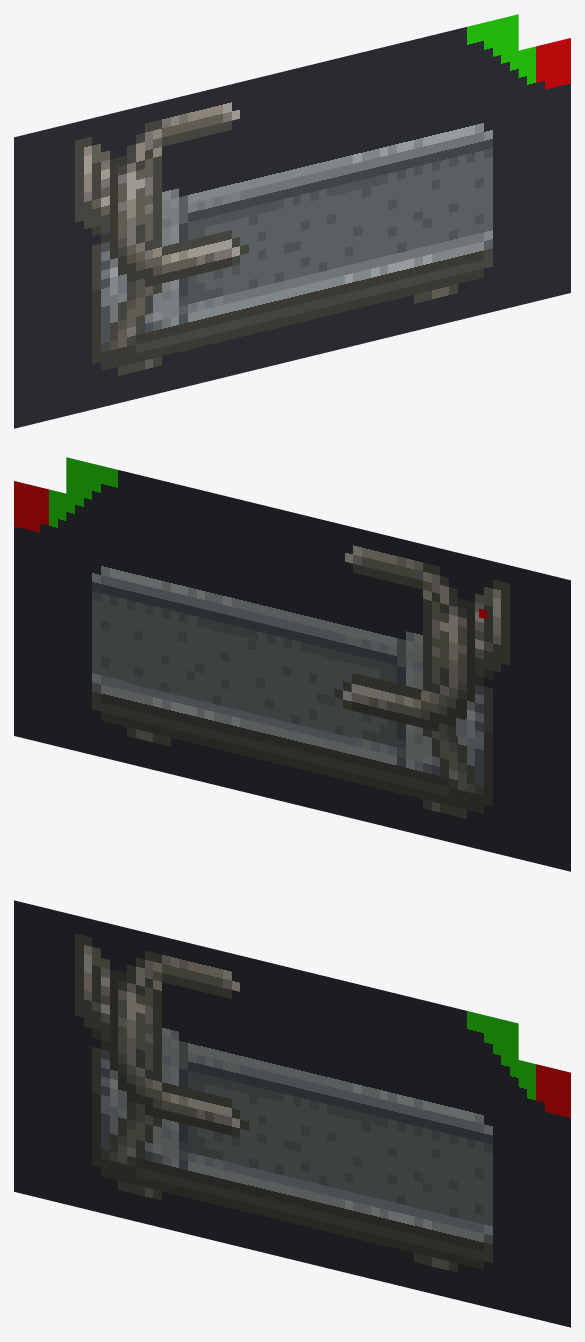
The model's file is Gym_Threadmill.glb.
3 renders of one model, top to bottom at view 1: azimuth 30°, elevation 25°; view 2: azimuth 150°, elevation 25°; view 3: azimuth 330°, elevation 25°, orthographic.
Parts seen in each view (by area): view 1: Treadmill; view 2: Treadmill, TreadmillFloor1, TreadmillHandle; view 3: Treadmill.
Boxes of the visible parts, left/top/right/bottom form: Treadmill: left=14, top=14, right=570, bottom=428; Treadmill: left=14, top=457, right=570, bottom=871; TreadmillFloor1: left=125, top=610, right=351, bottom=737; TreadmillHandle: left=334, top=674, right=464, bottom=738; Treadmill: left=14, top=900, right=570, bottom=1327.
Bounding box in the file's own units: 2 × 1 × 0.0318.
Materials: 1 (1 with a texture image).
